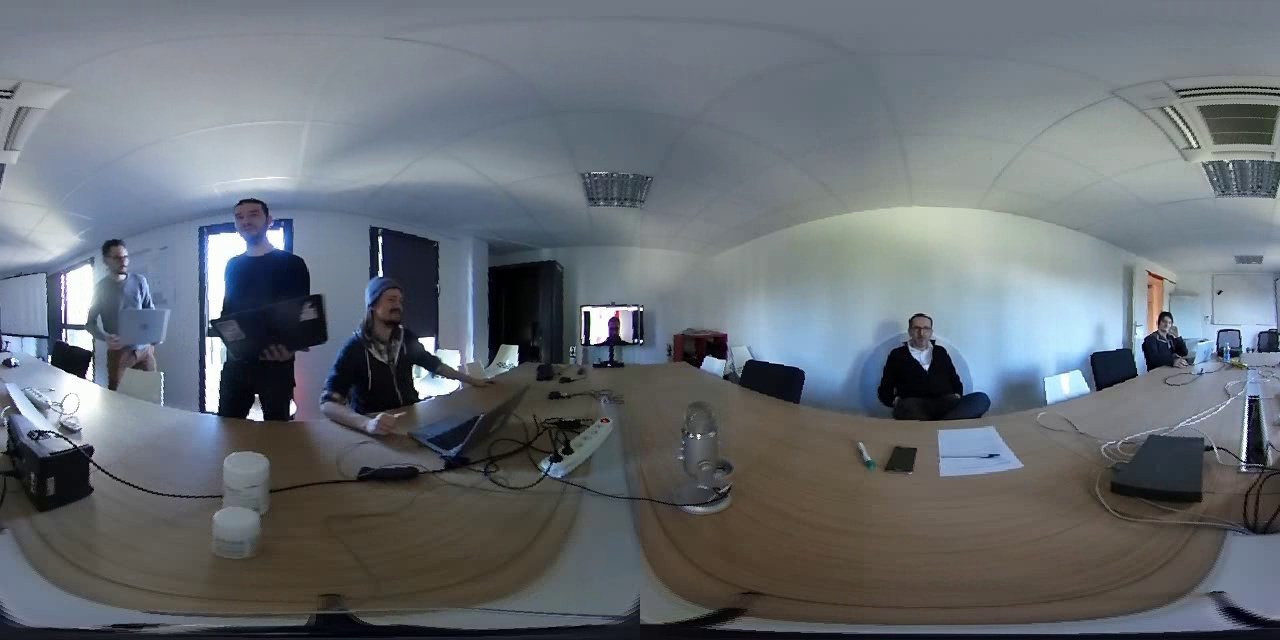person: (202, 185, 311, 386), (332, 265, 449, 421), (67, 224, 177, 362), (868, 301, 988, 407), (1137, 294, 1186, 368), (570, 303, 647, 347)
